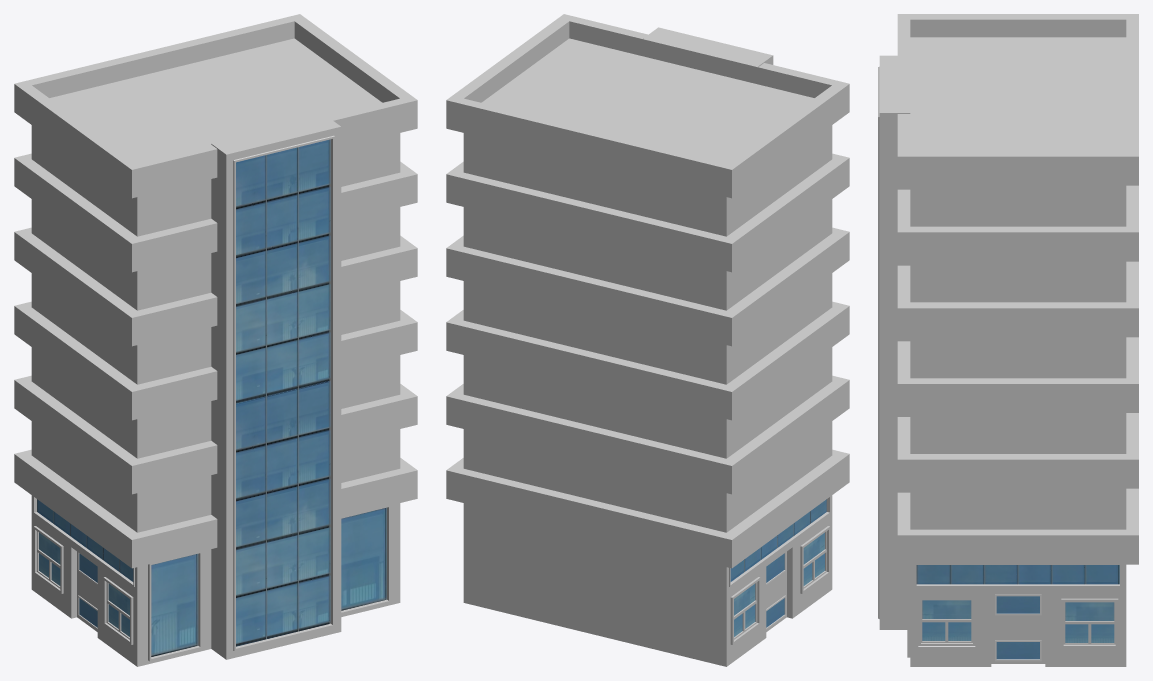
The model's file is Building.fbx.
3 renders of one model, left to right at view 1: azimuth 30°, elevation 25°; view 2: azimuth 150°, elevation 25°; view 3: azimuth 270°, elevation 25°, orthographic. The views are drawn at different scales.
Parts seen in each view (by area): view 1: Low poly building; view 2: Low poly building; view 3: Low poly building.
Boxes of the visible parts, x1,y1,x2,y2 form: Low poly building: (14, 14, 417, 666); Low poly building: (446, 14, 849, 666); Low poly building: (878, 14, 1138, 666).
Size of the model in its own units: 1414 by 2389 by 1092.
3 materials, 1 textured.
